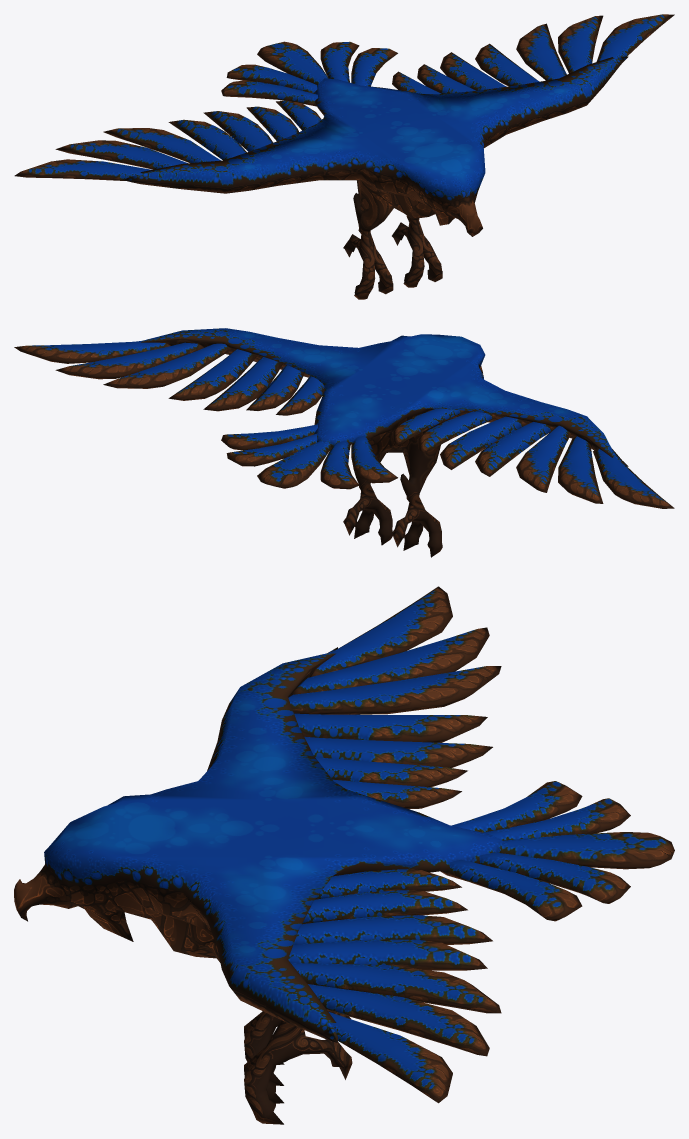
Rendered from Blue_Bird_Island.FBX.
The picture shows the model from 3 angles, top to bottom: view 1: azimuth 30°, elevation 25°; view 2: azimuth 150°, elevation 25°; view 3: azimuth 270°, elevation 25°; orthographic projection. The views are drawn at different scales.
Parts seen in each view (by area): view 1: Blue_Bird_Island; view 2: Blue_Bird_Island; view 3: Blue_Bird_Island.
Boxes of the visible parts, left/top/right/bottom form: Blue_Bird_Island: left=14, top=14, right=674, bottom=299; Blue_Bird_Island: left=14, top=328, right=674, bottom=557; Blue_Bird_Island: left=14, top=586, right=674, bottom=1124.
Bounding box in the file's own units: 17238 × 4140 × 9312.
